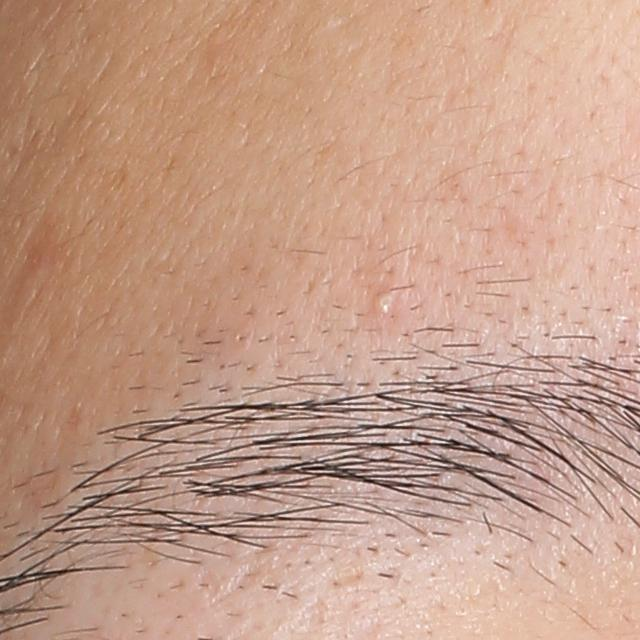pustule: (369, 288, 400, 320)
